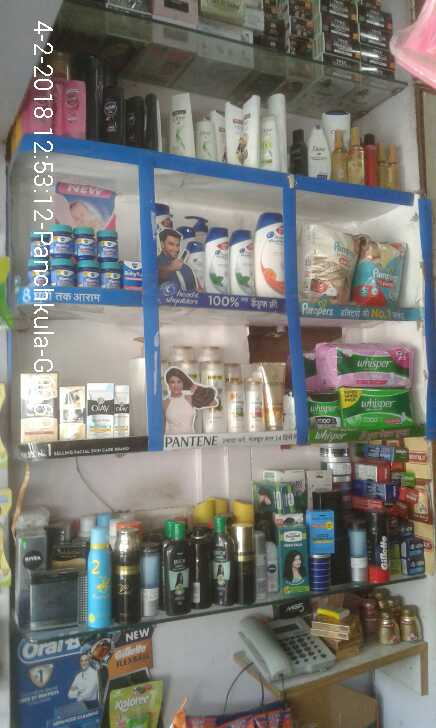beauty: (19, 369, 56, 456), (257, 207, 288, 301), (197, 362, 226, 430), (84, 381, 114, 442), (207, 221, 233, 291), (224, 355, 246, 431), (57, 386, 85, 440), (269, 364, 291, 430), (234, 227, 256, 292), (244, 371, 266, 433), (111, 385, 133, 436)
pharmacy: (307, 224, 357, 309), (357, 235, 410, 306), (316, 349, 415, 383), (343, 385, 410, 423), (48, 256, 74, 292), (44, 226, 72, 253), (116, 258, 140, 289), (91, 260, 122, 283), (74, 224, 95, 256), (96, 230, 117, 259), (79, 264, 101, 289)
